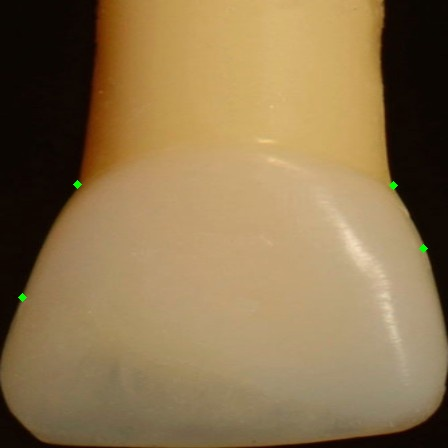coin_1: (77, 184, 97, 204)
coin_2: (22, 297, 42, 317)
coin_3: (393, 185, 413, 205)
coin_4: (423, 248, 443, 268)
